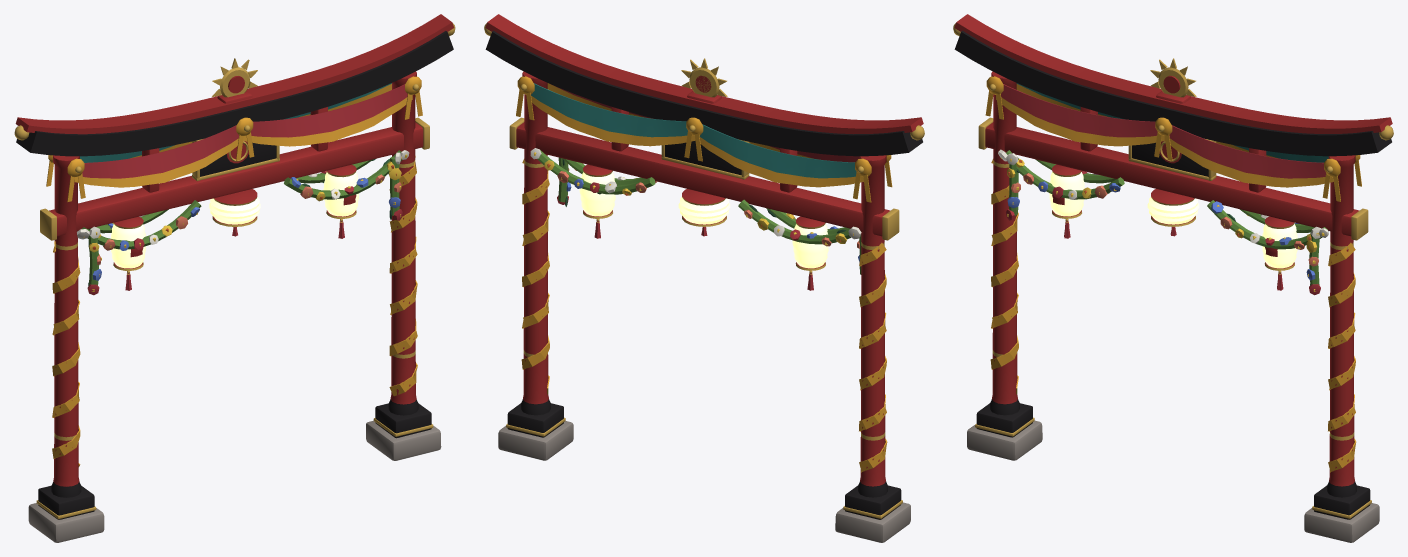
The model's file is deco_festival_arch.fbx.
The picture shows the model from 3 angles, left to right: view 1: azimuth 30°, elevation 25°; view 2: azimuth 150°, elevation 25°; view 3: azimuth 330°, elevation 25°; orthographic projection.
Visible parts, largest first — view 1: FestivalArch_Frame, FestivalArch_Swags, FestivalArch_Garlands, FestivalArch_LanternM, FestivalArch_LanternR, FestivalArch_LanternL, FestivalArch_Crest; view 2: FestivalArch_Frame, FestivalArch_Swags, FestivalArch_Garlands, FestivalArch_LanternM, FestivalArch_LanternL, FestivalArch_LanternR, FestivalArch_Crest; view 3: FestivalArch_Frame, FestivalArch_Swags, FestivalArch_Garlands, FestivalArch_LanternM, FestivalArch_LanternL, FestivalArch_LanternR, FestivalArch_Crest.
Boxes of the visible parts, x1,y1,x2,y2 form: FestivalArch_Frame: [14, 14, 455, 542]; FestivalArch_Swags: [46, 76, 422, 466]; FestivalArch_Garlands: [77, 150, 409, 295]; FestivalArch_LanternM: [209, 189, 260, 236]; FestivalArch_LanternR: [323, 164, 359, 238]; FestivalArch_LanternL: [111, 216, 145, 290]; FestivalArch_Crest: [212, 58, 257, 103]; FestivalArch_Frame: [484, 14, 924, 542]; FestivalArch_Swags: [516, 76, 892, 472]; FestivalArch_Garlands: [530, 148, 861, 274]; FestivalArch_LanternM: [678, 189, 730, 236]; FestivalArch_LanternL: [792, 216, 828, 290]; FestivalArch_LanternR: [579, 164, 615, 238]; FestivalArch_Crest: [681, 58, 727, 103]; FestivalArch_Frame: [953, 14, 1393, 542]; FestivalArch_Swags: [985, 76, 1361, 472]; FestivalArch_Garlands: [998, 149, 1328, 295]; FestivalArch_LanternM: [1147, 189, 1199, 236]; FestivalArch_LanternL: [1049, 164, 1084, 238]; FestivalArch_LanternR: [1262, 216, 1297, 290]; FestivalArch_Crest: [1150, 58, 1196, 103].
Size of the model in its own units: 494 by 462 by 56.55.
